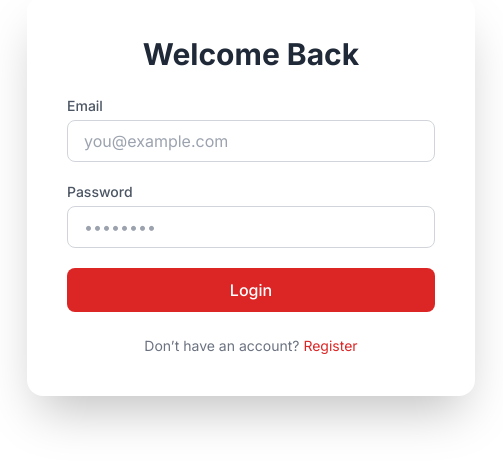
Test: Login Component › shows error message on failed login
Type "wrong@example.com" into the field labelled "Email". click: (251, 141)
box: [67,120,435,162]
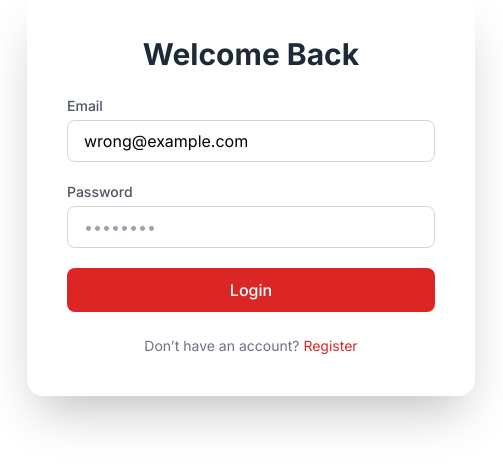
Type "wrongpass" into the password field labelled "Password". click: (251, 227)
box: [67,206,435,248]
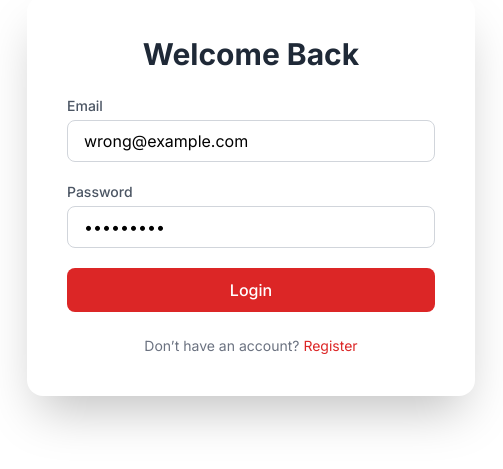
Click the button "Login". click: (251, 290)
box: [67,268,435,312]
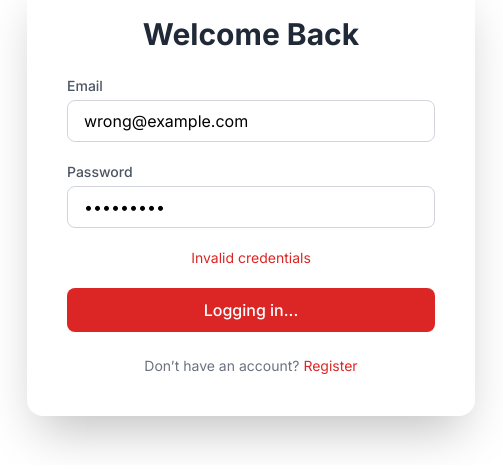
Expected: the text "Invalid credentials" is shown, [191,249,311,266]
